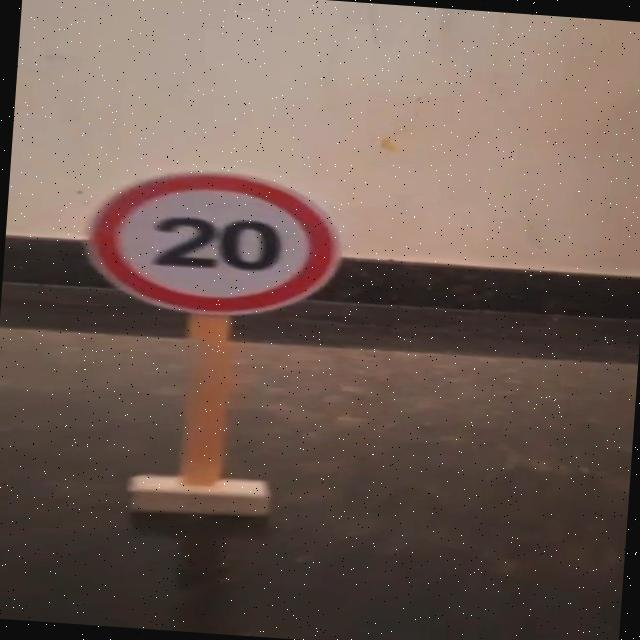Speed20: (70, 153, 358, 334)
